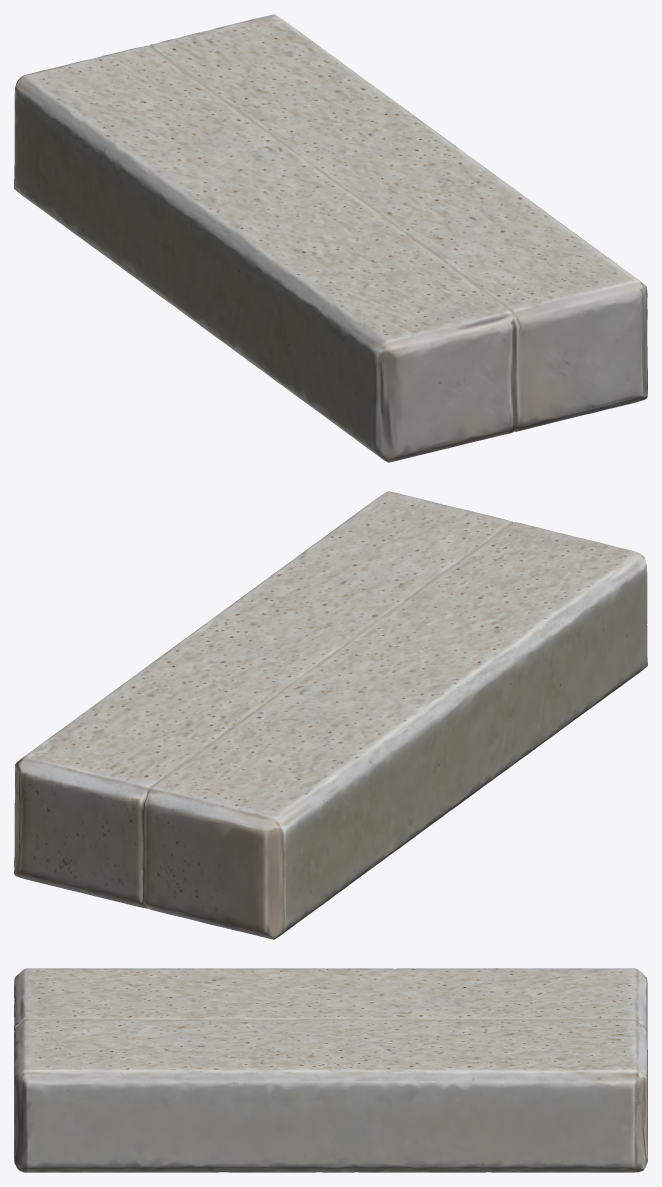
File: 3_Pier.glb
The picture shows the model from 3 angles, top to bottom: view 1: azimuth 30°, elevation 25°; view 2: azimuth 150°, elevation 25°; view 3: azimuth 270°, elevation 25°; orthographic projection. The views are drawn at different scales.
Visible parts, largest first — view 1: input; view 2: input; view 3: input.
Part boxes in pixels (x1,y1,x2,y2): input: [14, 14, 647, 462]; input: [14, 491, 647, 939]; input: [14, 968, 647, 1172].
Size of the model in its own units: 0.415 by 0.177 by 0.9995.
1 material, 1 textured.
